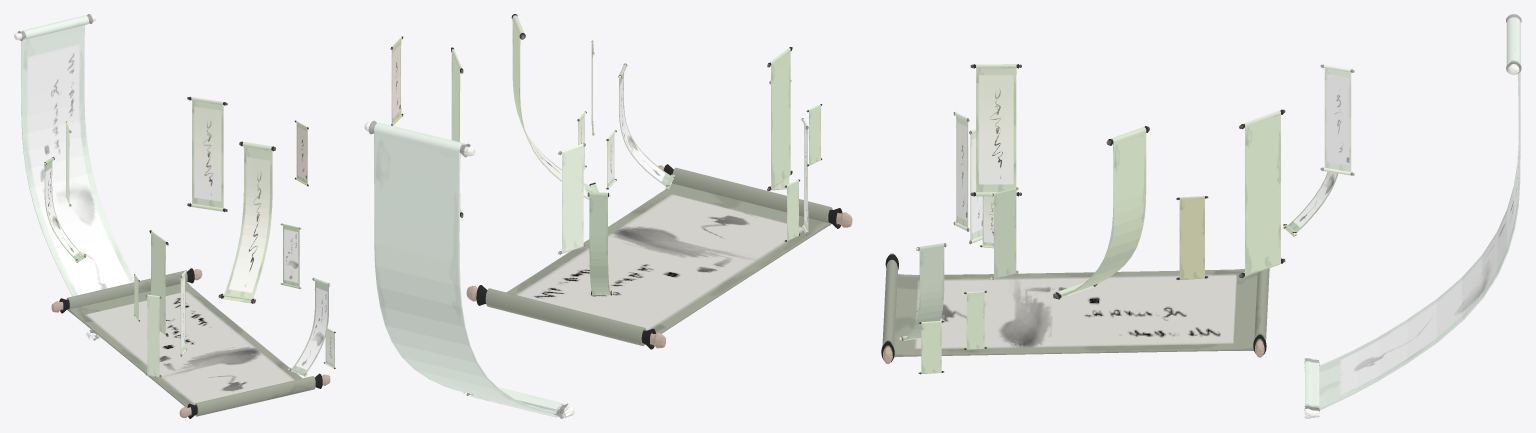
Rendered from scroll.glb.
3 views of the same model, side by side, from view 1: azimuth 30°, elevation 25°; view 2: azimuth 150°, elevation 25°; view 3: azimuth 270°, elevation 25° (orthographic). The views are drawn at different scales.
Visible parts, largest first — view 1: 卷轴2.016; view 2: 卷轴2.016; view 3: 卷轴2.016.
Part boxes in pixels (box(x1,y1,x2,y2)): 卷轴2.016: box(14, 14, 335, 418); 卷轴2.016: box(364, 14, 852, 418); 卷轴2.016: box(881, 14, 1521, 418).
Size of the model in its own units: 54.65 by 55.45 by 90.16.
1 material, 1 textured.
